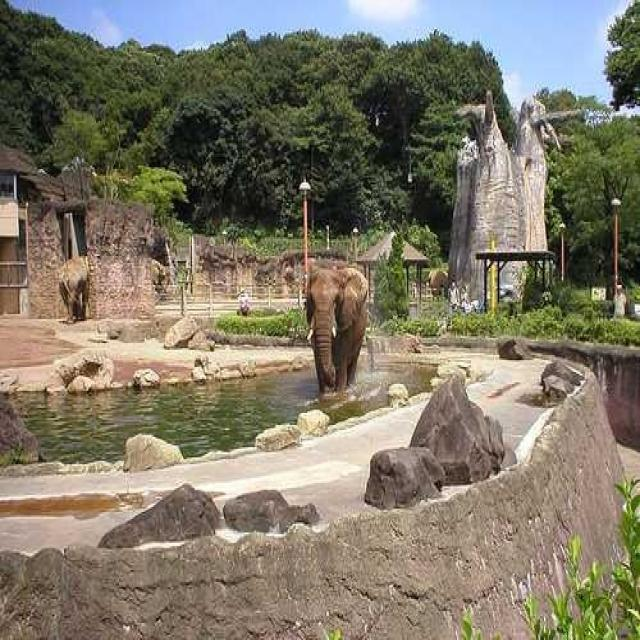Elephant: (304, 265, 368, 394), (58, 254, 88, 323)
person: (236, 286, 250, 316)
